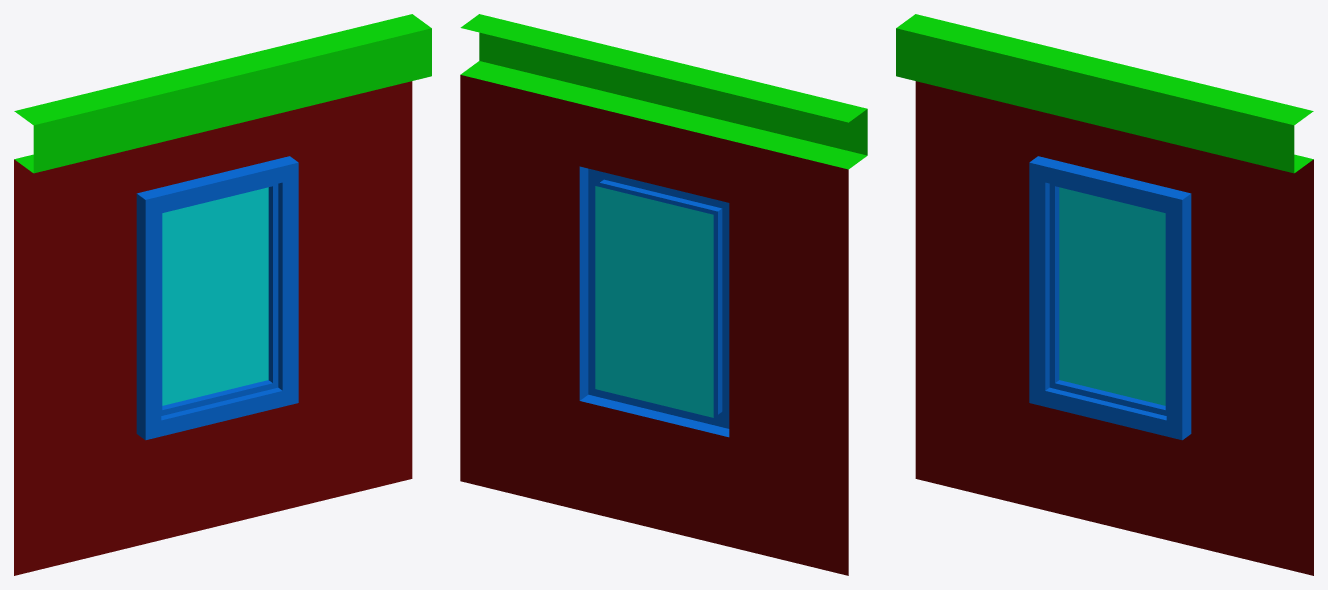
File: Wall_Window.fbx
3 renders of one model, left to right at view 1: azimuth 30°, elevation 25°; view 2: azimuth 150°, elevation 25°; view 3: azimuth 330°, elevation 25°, orthographic. The views are drawn at different scales.
Parts seen in each view (by area): view 1: Build_1_Wall_Window; view 2: Build_1_Wall_Window; view 3: Build_1_Wall_Window.
Part boxes in pixels (bbox=[...]): Build_1_Wall_Window: bbox=[14, 14, 431, 575]; Build_1_Wall_Window: bbox=[460, 14, 867, 575]; Build_1_Wall_Window: bbox=[896, 14, 1313, 575].
Size of the model in its own units: 260 by 22 by 290.
